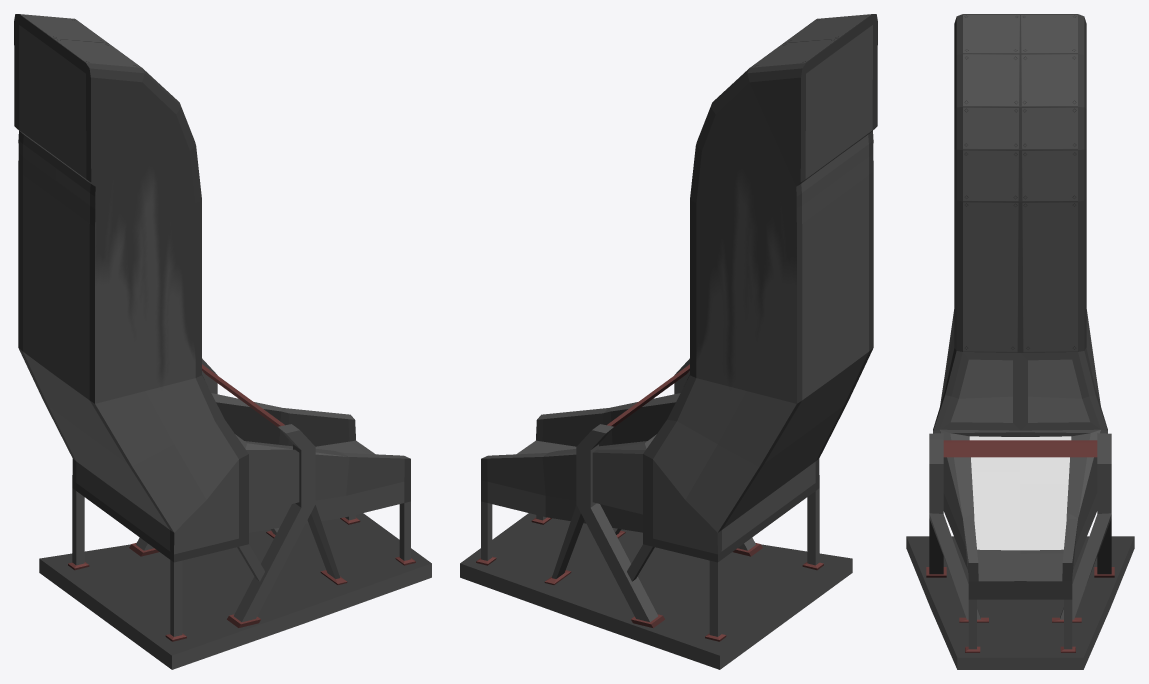
Rendered from BOMBdISPENSOR.fbx.
The picture shows the model from 3 angles, left to right: view 1: azimuth 30°, elevation 25°; view 2: azimuth 150°, elevation 25°; view 3: azimuth 270°, elevation 25°; orthographic projection. The views are drawn at different scales.
Parts seen in each view (by area): view 1: Cube; view 2: Cube; view 3: Cube, Cube.001.
Boxes of the visible parts, x1,y1,x2,y2 form: Cube: [14, 14, 431, 669]; Cube: [460, 14, 877, 669]; Cube: [906, 14, 1134, 669]; Cube.001: [969, 436, 1071, 550].
Bounding box in the file's own units: 516 × 346 × 857.
